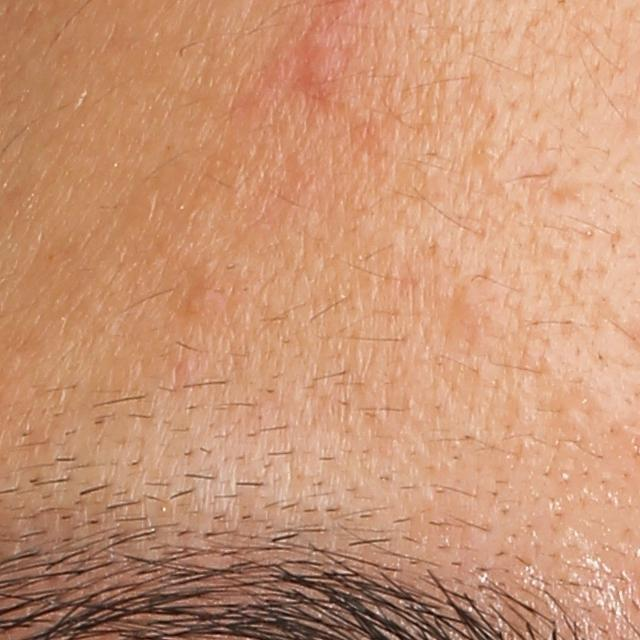comedo: (450, 283, 494, 333), (471, 135, 502, 167)
